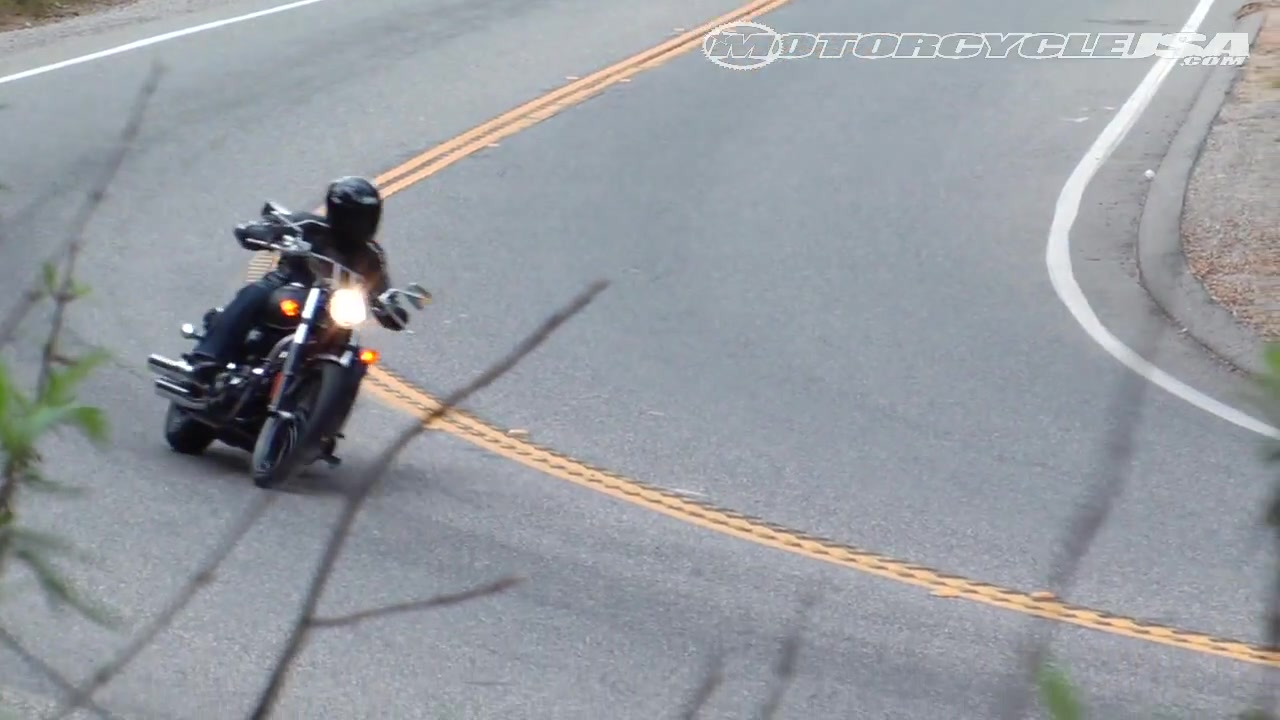motorbike: (144, 200, 426, 494)
